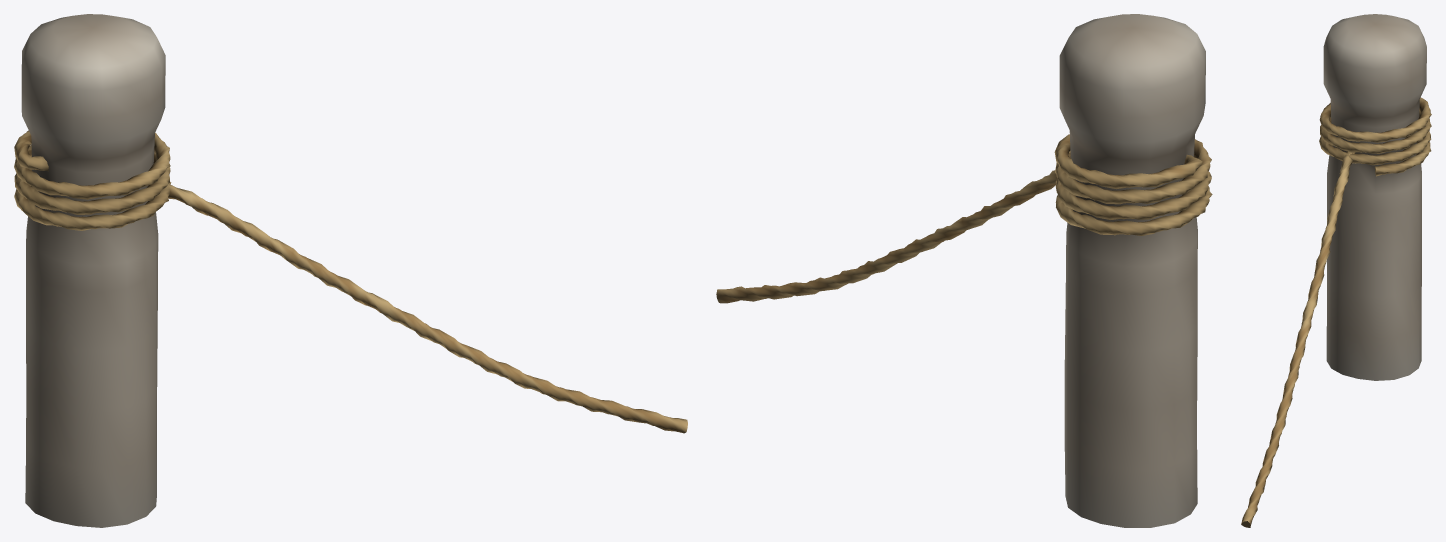
The model's file is mooring-post.525fbb96.glb.
3 views of the same model, side by side, from view 1: azimuth 30°, elevation 25°; view 2: azimuth 150°, elevation 25°; view 3: azimuth 270°, elevation 25° (orthographic). The views are drawn at different scales.
Parts seen in each view (by area): view 1: mooring_post; view 2: mooring_post; view 3: mooring_post.
Boxes of the visible parts, x1,y1,x2,y2 form: mooring_post: (14, 14, 687, 527); mooring_post: (716, 14, 1212, 527); mooring_post: (1241, 14, 1431, 527).
Size of the model in its own units: 1.14 by 0.9 by 0.4619.
